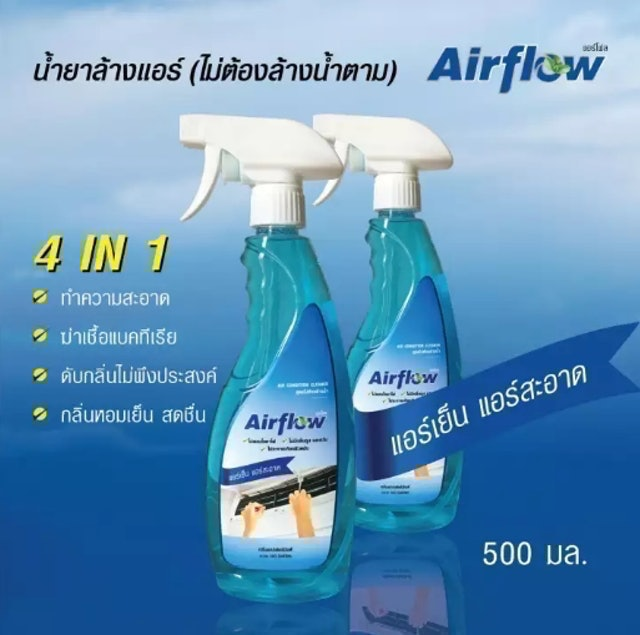Cleaning_solution: (170, 111, 352, 609), (306, 111, 472, 540)
